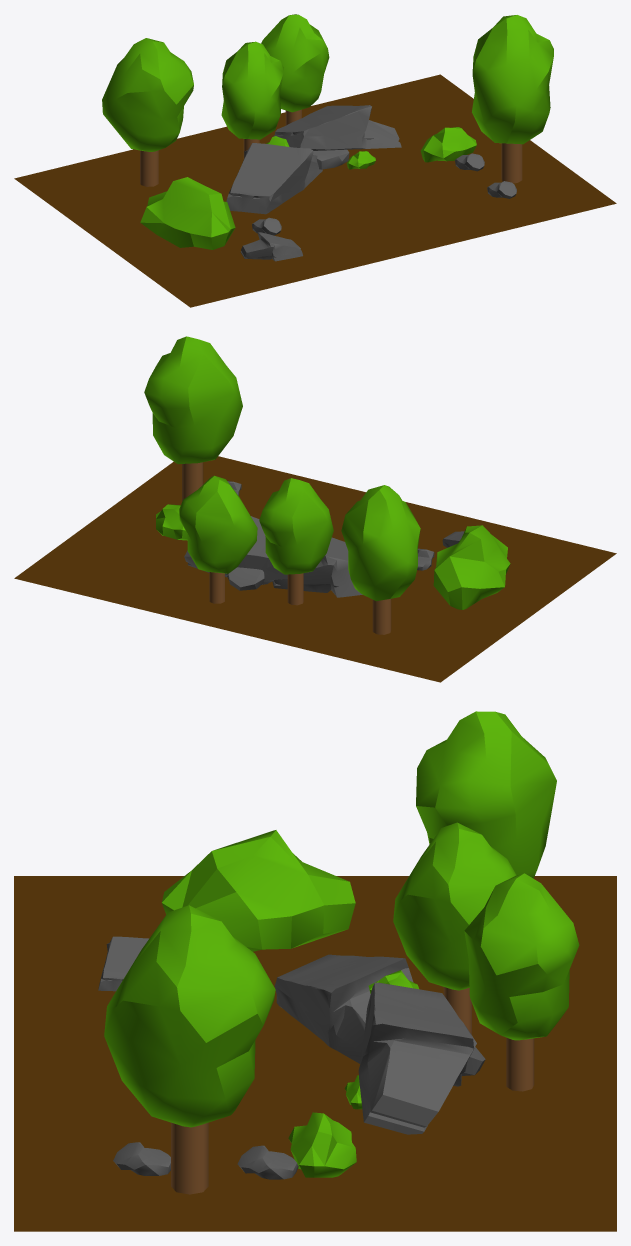
Rendered from main-scene.glb.
3 views of the same model, one above another, from view 1: azimuth 30°, elevation 25°; view 2: azimuth 150°, elevation 25°; view 3: azimuth 270°, elevation 25° (orthographic). The views are drawn at different scales.
Visible parts, largest first — view 1: ground, tree.leaves.003, tree.leaves, tree.leaves.001, bush.leaves.003, rock.001.mesh.001, tree.leaves.002, rock.001.mesh, bush.leaves, rock.001.mesh.002, trunk.003, trunk (+4 smaller); view 2: ground, tree.leaves.003, tree.leaves, tree.leaves.002, tree.leaves.001, bush.leaves.003, rock.001.mesh.001, rock.001.mesh, bush.leaves, rock.002.mesh.002, trunk, trunk.003 (+2 smaller); view 3: ground, tree.leaves.003, tree.leaves, tree.leaves.002, bush.leaves.003, rock.001.mesh, tree.leaves.001, rock.001.mesh.001, bush.leaves, trunk.003, rock.001.mesh.002, rock.002.mesh.001 (+3 smaller).
Part boxes in pixels (x1,y1,x2,y2): ground: (14, 74, 616, 307); tree.leaves.003: (472, 15, 553, 144); tree.leaves: (102, 38, 193, 151); tree.leaves.001: (221, 41, 283, 139); bush.leaves.003: (140, 177, 235, 249); rock.001.mesh.001: (226, 143, 322, 214); tree.leaves.002: (261, 14, 329, 112); rock.001.mesh: (273, 105, 401, 150); bush.leaves: (420, 127, 476, 162); rock.001.mesh.002: (240, 232, 302, 261); trunk.003: (501, 143, 522, 183); trunk: (140, 150, 158, 186); ground: (14, 456, 616, 682); tree.leaves.003: (144, 336, 242, 463); tree.leaves: (341, 485, 420, 601); tree.leaves.002: (179, 475, 257, 573); tree.leaves.001: (259, 478, 333, 574); bush.leaves.003: (433, 525, 510, 609); rock.001.mesh.001: (272, 537, 362, 597); rock.001.mesh: (184, 516, 287, 581); bush.leaves: (156, 504, 187, 540); rock.002.mesh.002: (228, 567, 273, 590); trunk: (372, 599, 391, 634); trunk.003: (182, 462, 203, 501); ground: (14, 876, 616, 1231); tree.leaves.003: (104, 905, 275, 1127); tree.leaves: (416, 711, 556, 878); tree.leaves.002: (464, 873, 579, 1040); bush.leaves.003: (162, 830, 355, 951); rock.001.mesh: (358, 982, 476, 1134); tree.leaves.001: (393, 822, 516, 990); rock.001.mesh.001: (274, 954, 413, 1063); bush.leaves: (288, 1112, 356, 1177); trunk.003: (171, 1122, 208, 1194); rock.001.mesh.002: (98, 936, 148, 991); rock.002.mesh.001: (237, 1145, 298, 1179).
Bounding box in the file's own units: 18.32 × 6.77 × 13.13.
